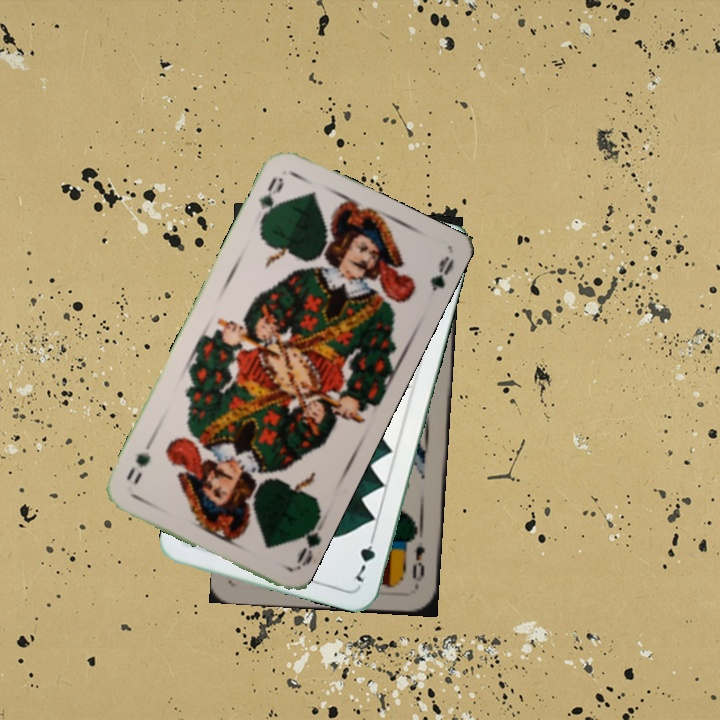EO: (406, 530, 428, 589)
G7: (351, 529, 378, 585)
GO: (291, 514, 328, 570), (254, 172, 287, 228)
